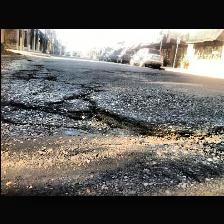pothole: (72, 104, 180, 144), (189, 131, 223, 144)
